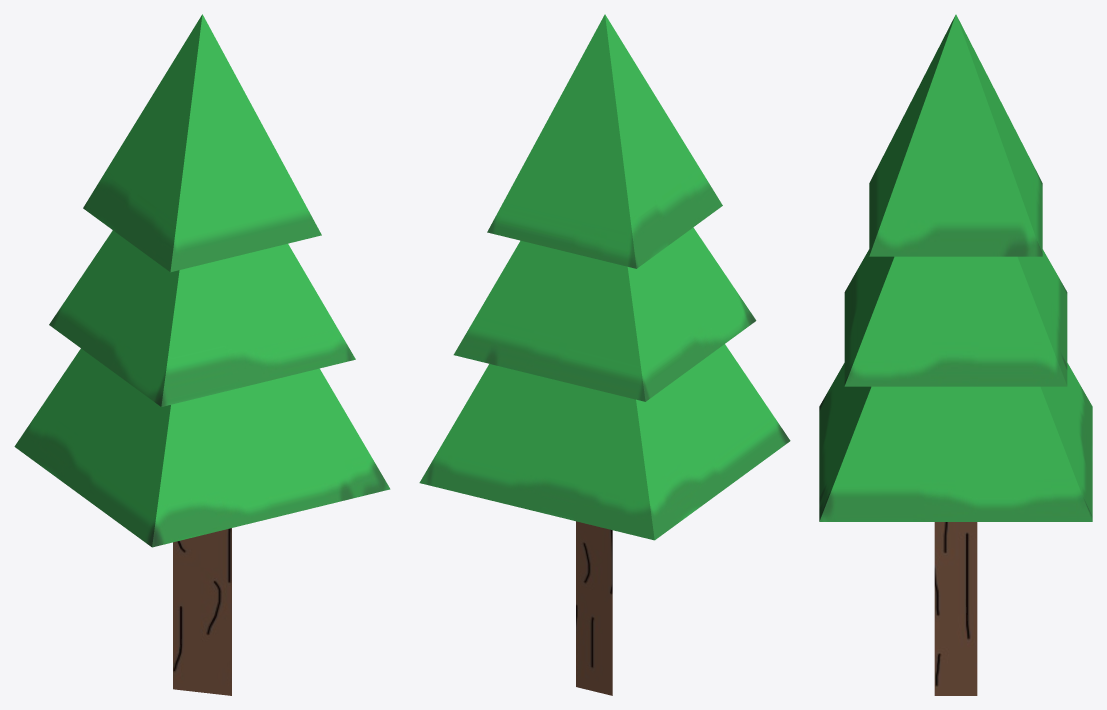
The model's file is Tree_1.fbx.
3 renders of one model, left to right at view 1: azimuth 30°, elevation 25°; view 2: azimuth 150°, elevation 25°; view 3: azimuth 270°, elevation 25°, orthographic.
Visible parts, largest first — view 1: Cube; view 2: Cube; view 3: Cube.
Boxes of the visible parts, x1,y1,x2,y2 form: Cube: (14,14,390,695); Cube: (419,14,790,695); Cube: (819,14,1092,695).
Size of the model in its own units: 200 by 544 by 200.
